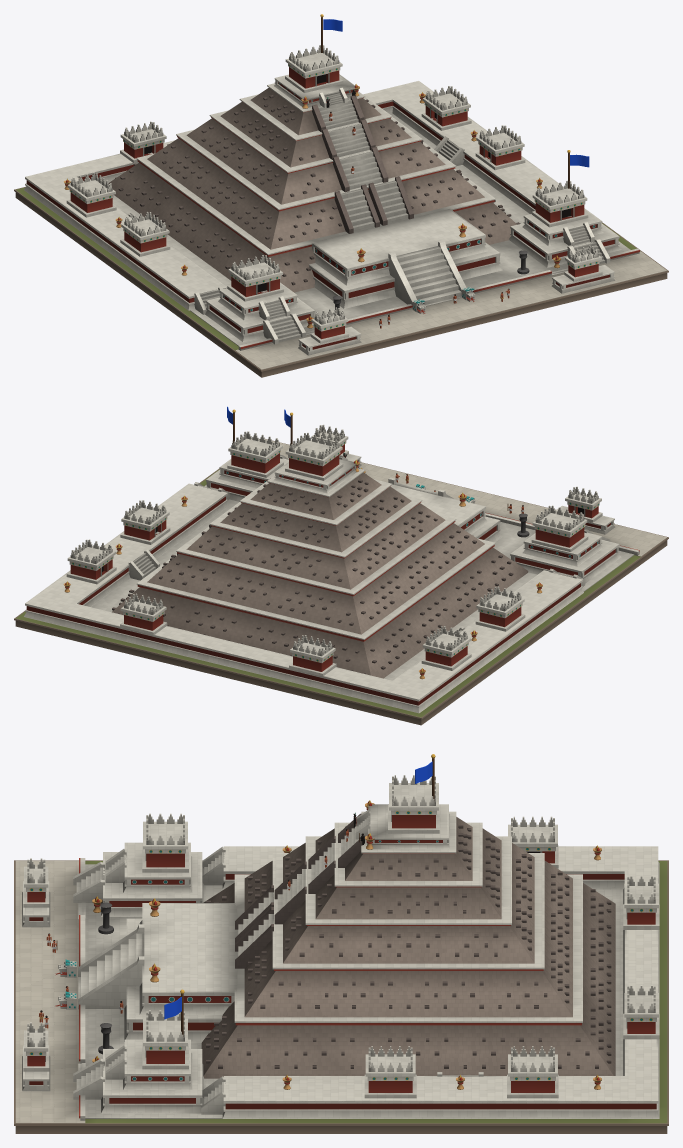
The model's file is lm_gunespiramidi.glb.
3 views of the same model, one above another, from view 1: azimuth 30°, elevation 25°; view 2: azimuth 150°, elevation 25°; view 3: azimuth 270°, elevation 25° (orthographic). The views are drawn at different scales.
Parts seen in each view (by area): view 1: lm_gunespiramidi; view 2: lm_gunespiramidi; view 3: lm_gunespiramidi.
Part boxes in pixels (x1=…): lm_gunespiramidi: x1=14, y1=14, x2=668, y2=377; lm_gunespiramidi: x1=14, y1=406, x2=668, y2=725; lm_gunespiramidi: x1=14, y1=754, x2=668, y2=1133.
Size of the model in its own units: 2.41 by 1.1 by 2.53.
Materials: 1 (1 with a texture image).
